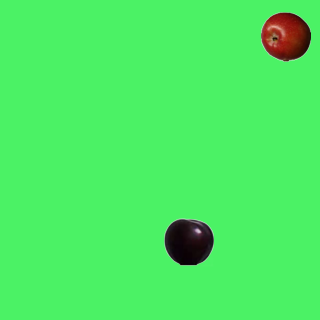Apple Braeburn: (260, 11, 310, 61)
Cherry Wax Black: (163, 216, 213, 266)
